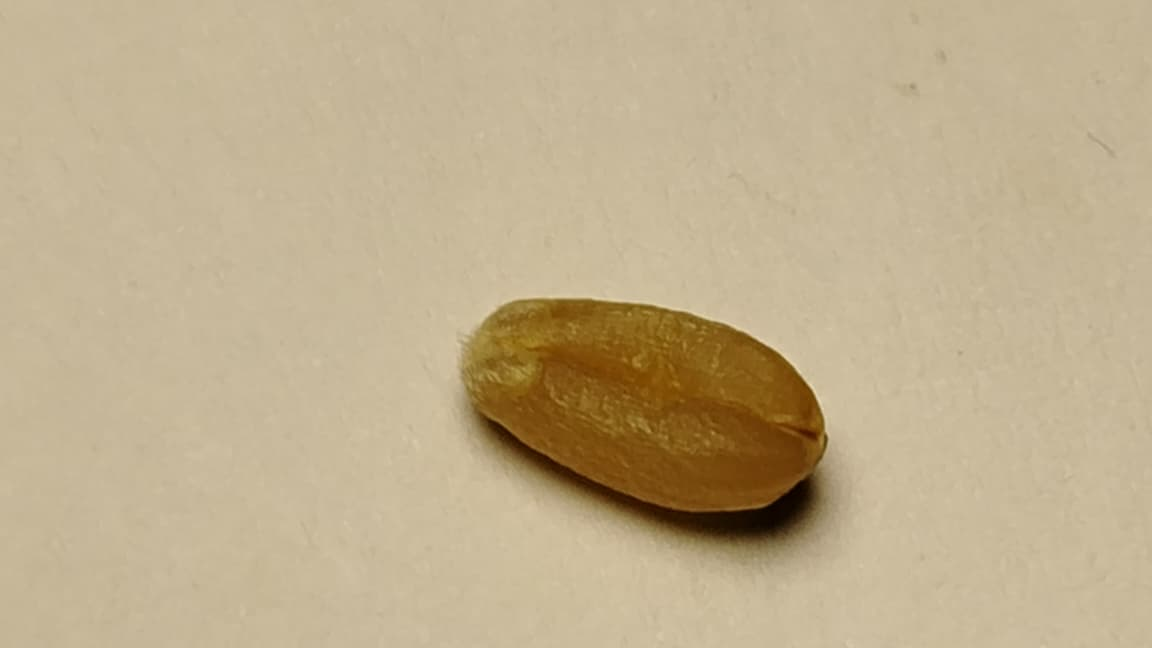healthy: (461, 299, 825, 513)
